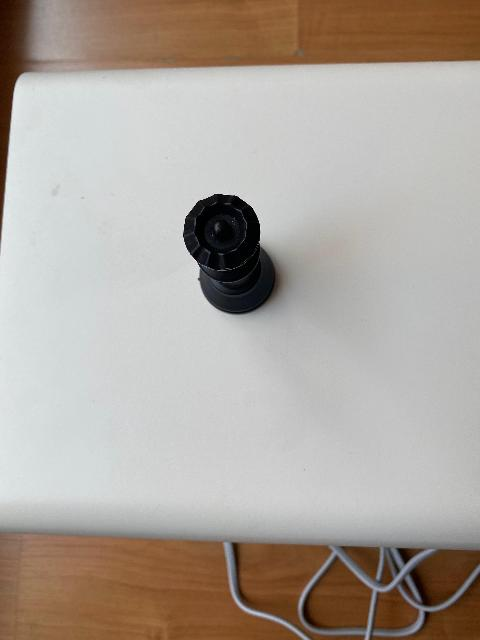black-queen: (182, 192, 276, 314)
